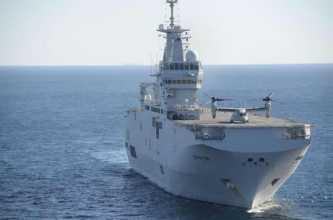warship: (123, 1, 314, 209)
